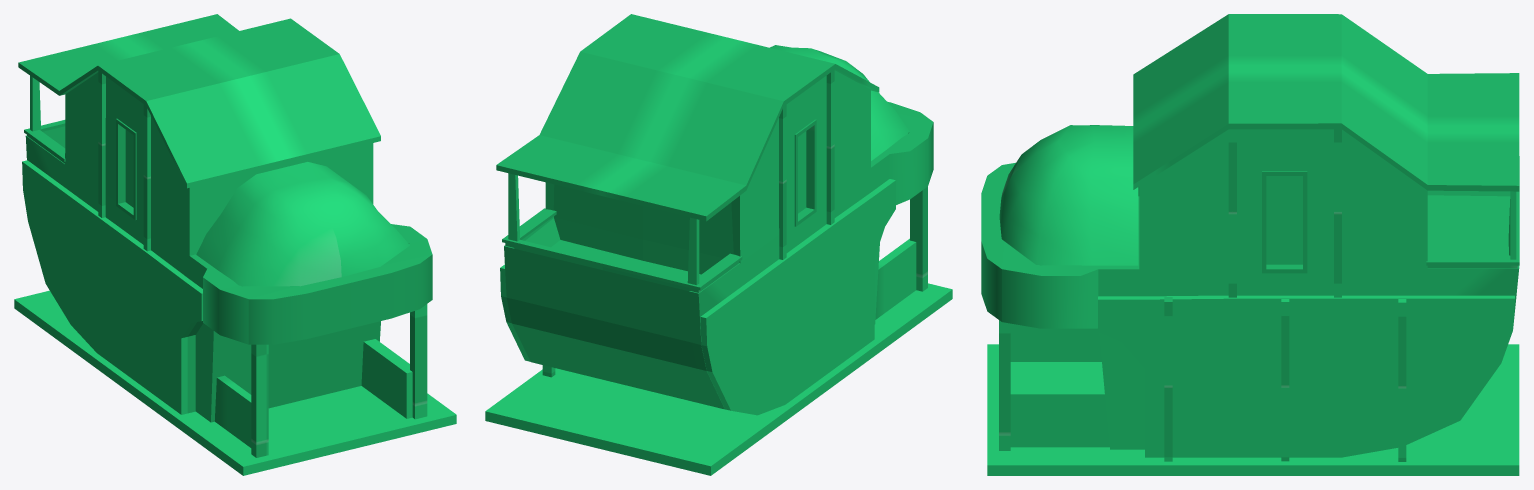
The model's file is SM_solarhouse_.fbx.
3 views of the same model, side by side, from view 1: azimuth 30°, elevation 25°; view 2: azimuth 150°, elevation 25°; view 3: azimuth 270°, elevation 25° (orthographic). The views are drawn at different scales.
Parts seen in each view (by area): view 1: Sphere.001; view 2: Sphere.001; view 3: Sphere.001.
Boxes of the visible parts, x1,y1,x2,y2 form: Sphere.001: [14, 14, 456, 475]; Sphere.001: [485, 14, 952, 475]; Sphere.001: [981, 14, 1519, 475].
Size of the model in its own units: 490 by 651 by 921.
